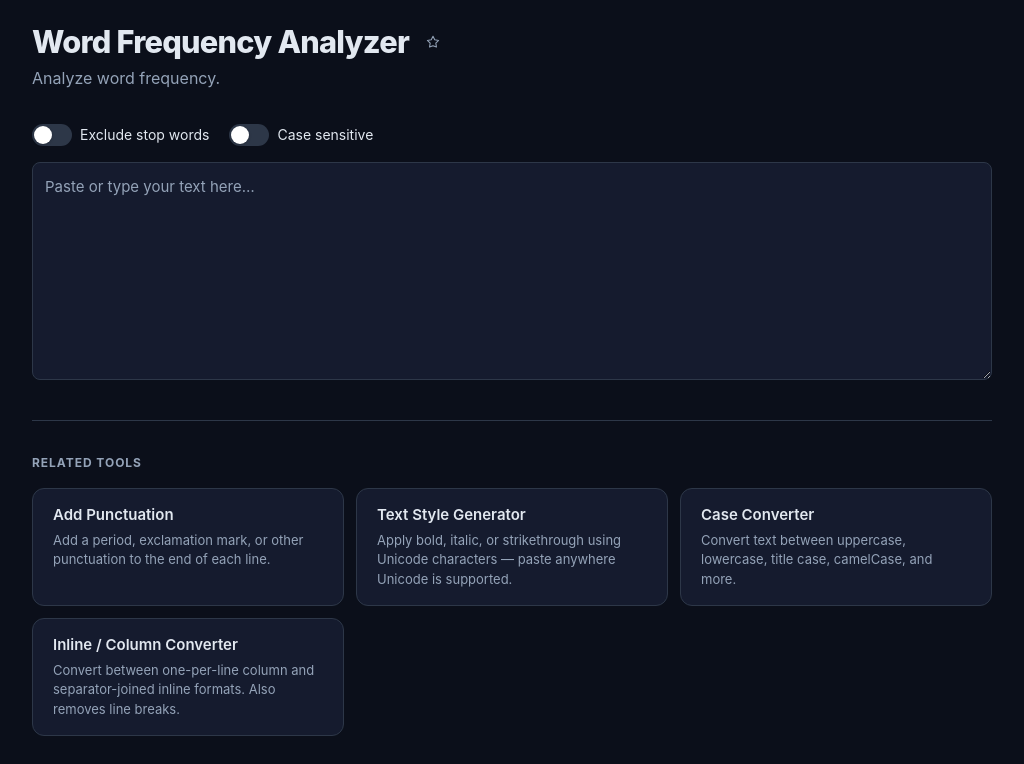
Test case: WordFrequency › shows frequency table when text is entered
Type "apple apple banana" into the text box named "text to analyze" at (512, 271), box top-left (32, 162), bottom-right (992, 380)
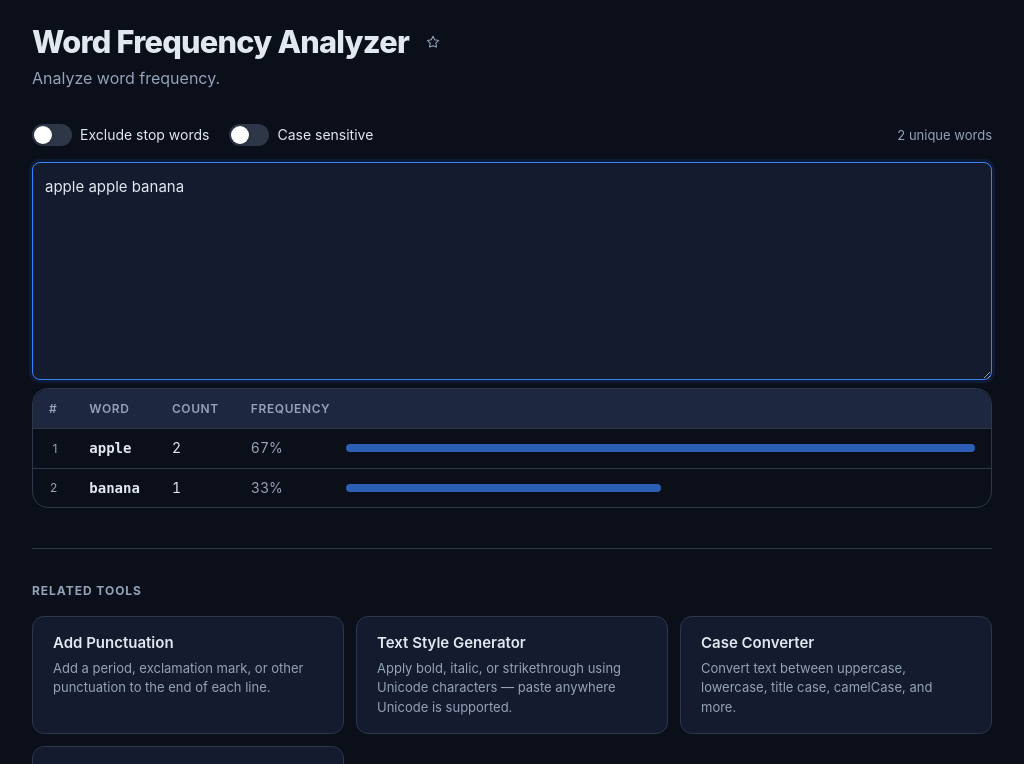
expect the table is shown: met, box top-left (33, 389), bottom-right (991, 507)
expect the text "apple" is shown: met, box top-left (73, 429), bottom-right (156, 468)
expect the text "banana" is shown: met, box top-left (73, 468), bottom-right (156, 507)
